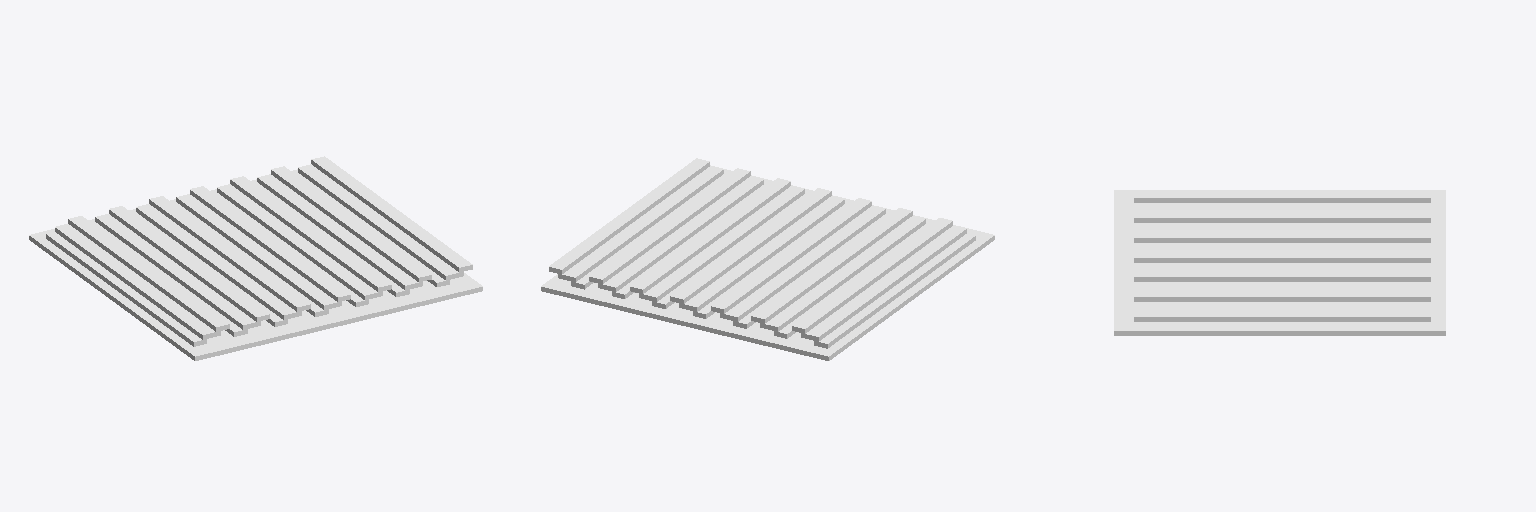
File: PLTS.obj
The picture shows the model from 3 angles: view 1: azimuth 30°, elevation 25°; view 2: azimuth 150°, elevation 25°; view 3: azimuth 270°, elevation 25°; orthographic projection.
Parts seen in each view (by area): view 1: object 1; view 2: object 1; view 3: object 1.
Boxes of the visible parts, box(x1,y1,x2,y2) form: object 1: box(29, 156, 482, 360); object 1: box(541, 158, 994, 360); object 1: box(1114, 190, 1445, 335).
Size of the model in its own units: 6.4 by 0.4 by 6.4.